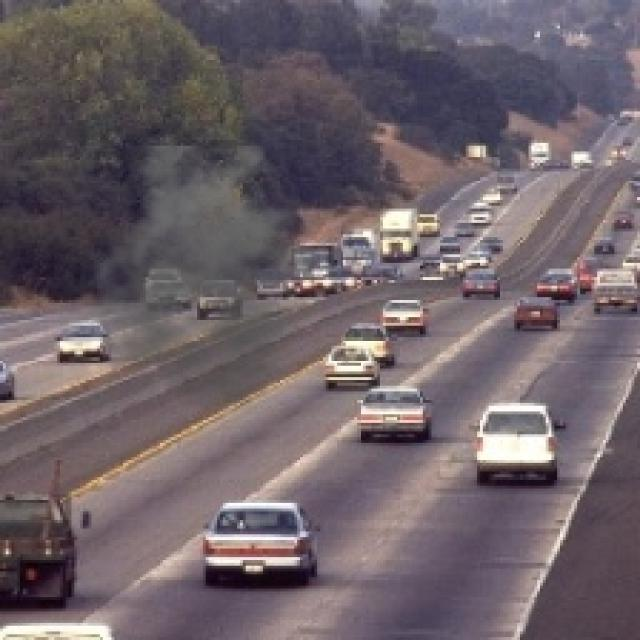smoke: (77, 146, 334, 411)
